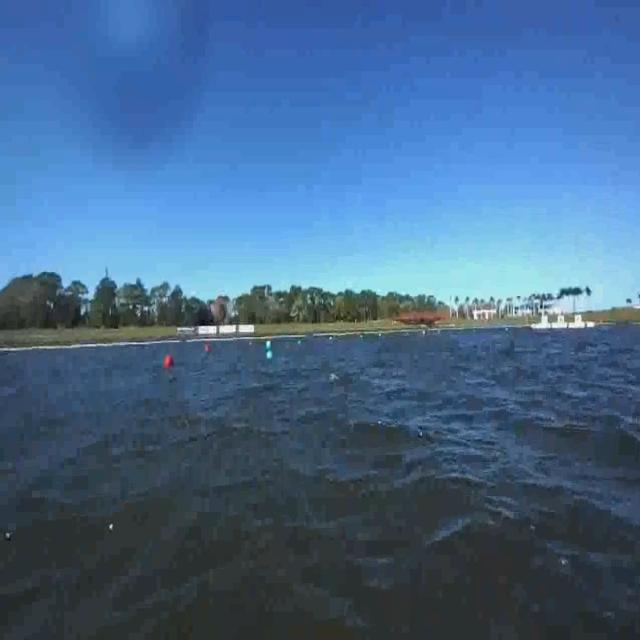green-buoy: (266, 346, 274, 362)
red-buoy: (163, 354, 173, 370)
